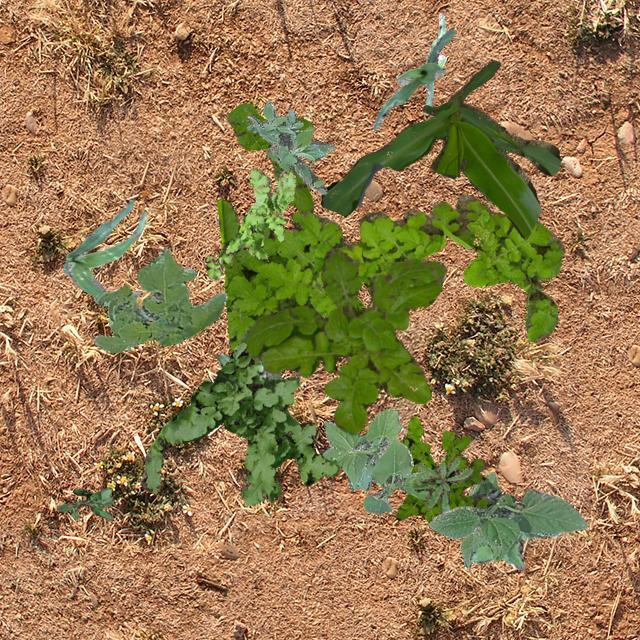crop: (320, 59, 560, 238), (426, 488, 586, 560), (61, 198, 153, 320), (373, 28, 455, 128), (458, 472, 499, 566), (423, 12, 445, 106)
weed: (216, 192, 564, 364), (237, 246, 446, 434), (140, 342, 338, 504), (91, 248, 226, 352), (321, 408, 428, 512), (394, 414, 492, 522), (203, 166, 294, 280), (225, 102, 312, 216), (245, 100, 334, 194), (468, 494, 560, 568), (409, 457, 472, 512), (216, 352, 282, 380), (56, 486, 112, 518), (468, 477, 516, 502)
